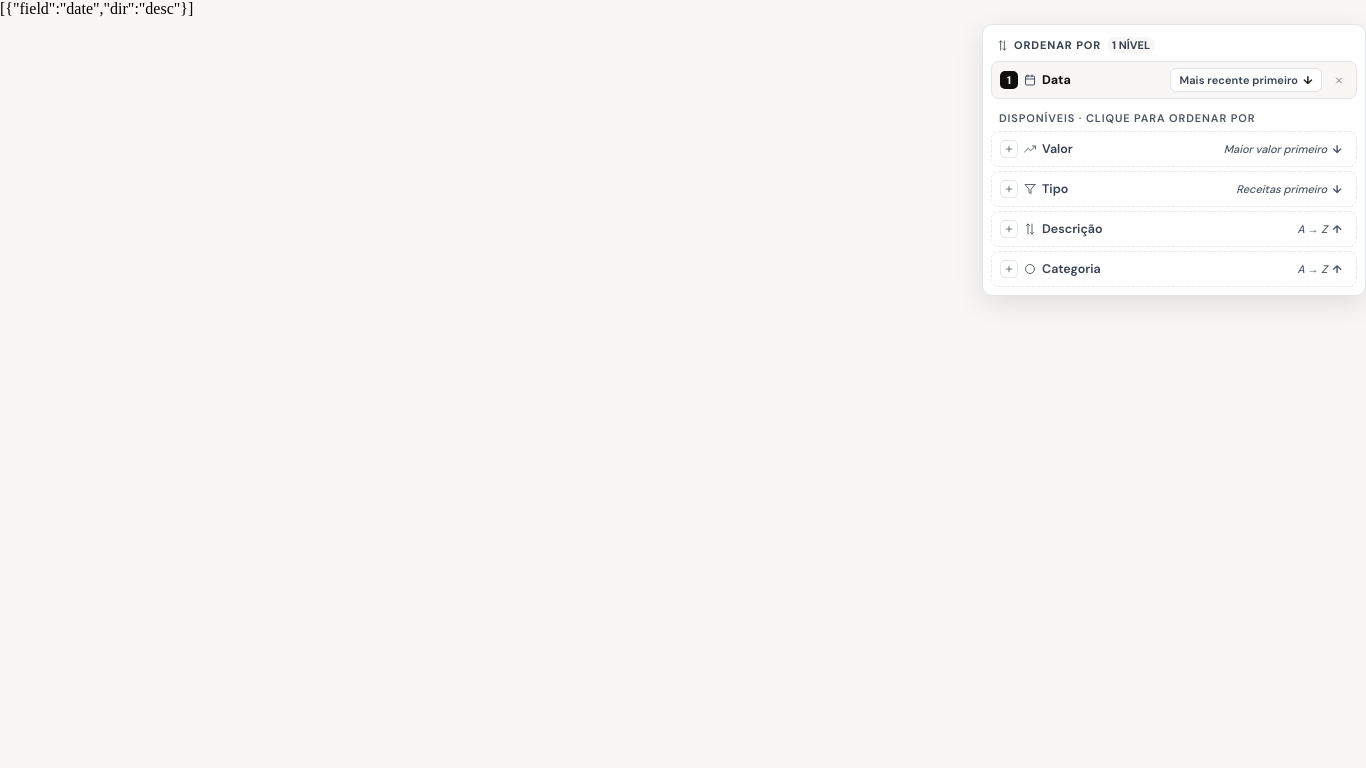
Test: <SortMenu> › clique em campo inativo o promove a critério PRIMÁRIO com dir default
What coordinates should you click on to do the following:
click the button with aria-label "Ordenar por Valor"
I would click on:
 (1057, 149)
Its box is [991, 131, 1357, 167].
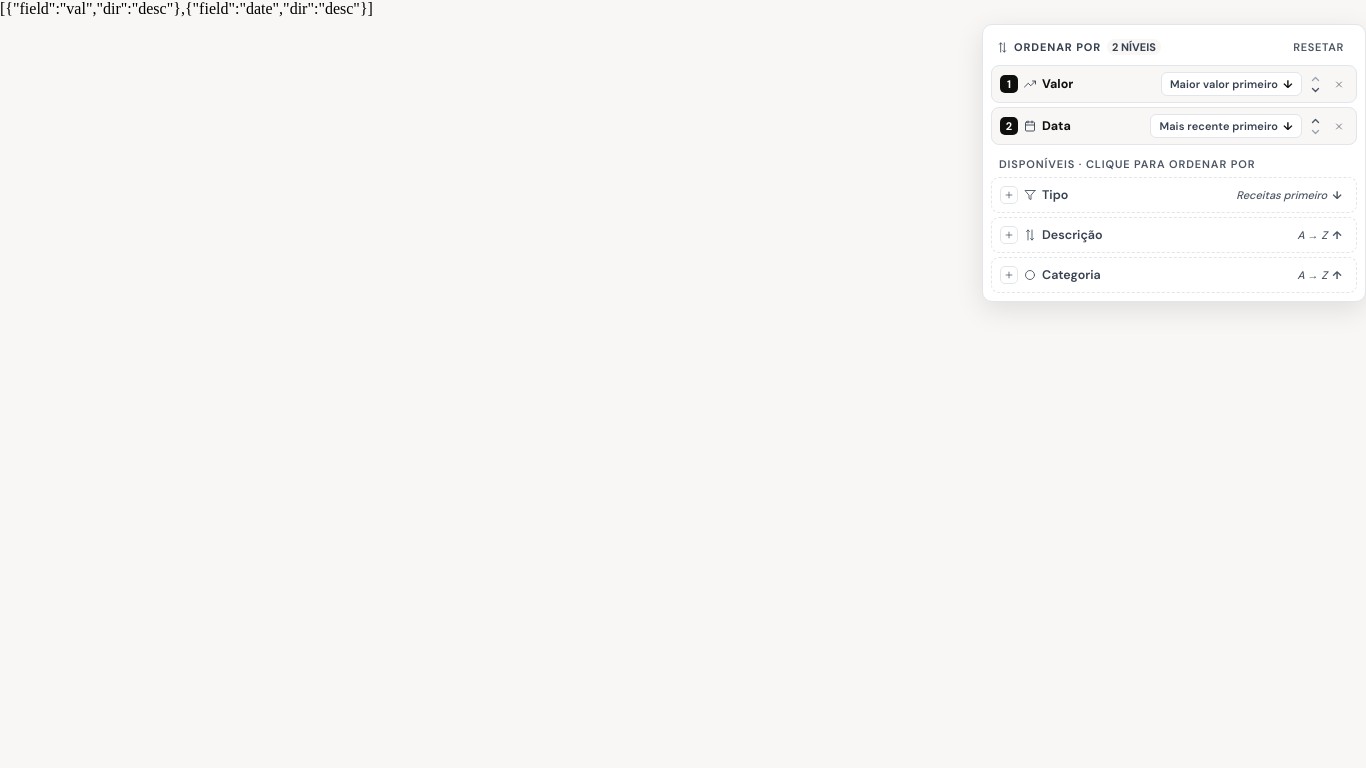
Result: the text "2 níveis" is shown at [1107, 39, 1161, 55]
